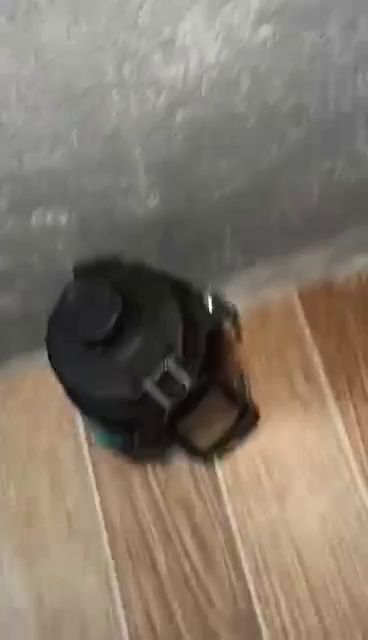tumbler: (44, 257, 260, 468)
